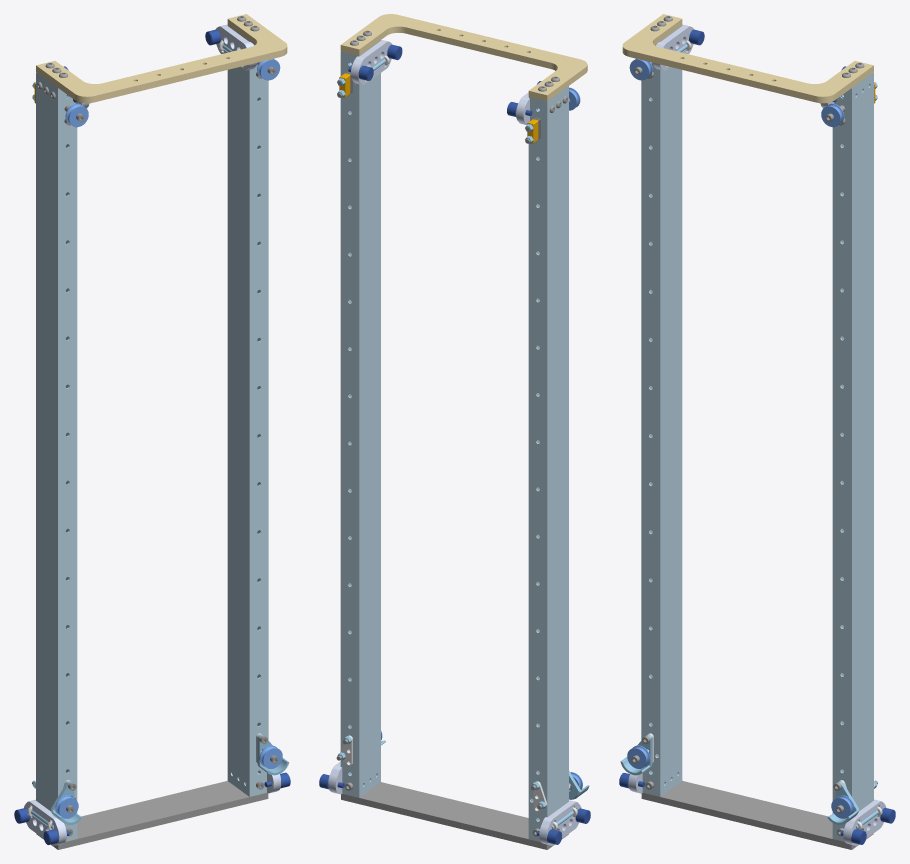
The picture shows the model from 3 angles, left to right: view 1: azimuth 30°, elevation 25°; view 2: azimuth 150°, elevation 25°; view 3: azimuth 330°, elevation 25°; orthographic projection.
Visible parts, largest first — view 1: Tube_Ele_B (×2), 1st Stage top, Part 2, elevator component bearing block (×2); view 2: Tube_Ele_B (×2), 1st Stage top, Part 2, elevator component bearing block (×2); view 3: Tube_Ele_B (×2), 1st Stage top, Part 2, elevator component bearing block (×2).
Boxes of the visible parts, x1=… form: Tube_Ele_B (×2): x1=36, y1=44, x2=268, y2=841; 1st Stage top: x1=36, y1=14, x2=287, y2=103; Part 2: x1=36, y1=781, x2=268, y2=849; elevator component bearing block (×2): x1=24, y1=24, x2=257, y2=845; Tube_Ele_B (×2): x1=340, y1=52, x2=568, y2=841; 1st Stage top: x1=340, y1=14, x2=587, y2=101; Part 2: x1=341, y1=782, x2=568, y2=849; elevator component bearing block (×2): x1=351, y1=40, x2=581, y2=845; Tube_Ele_B (×2): x1=641, y1=44, x2=873, y2=841; 1st Stage top: x1=622, y1=14, x2=873, y2=103; Part 2: x1=641, y1=781, x2=873, y2=849; elevator component bearing block (×2): x1=652, y1=24, x2=886, y2=845.
Bounding box in the file's own units: 0.3148 × 0.9622 × 0.129.
